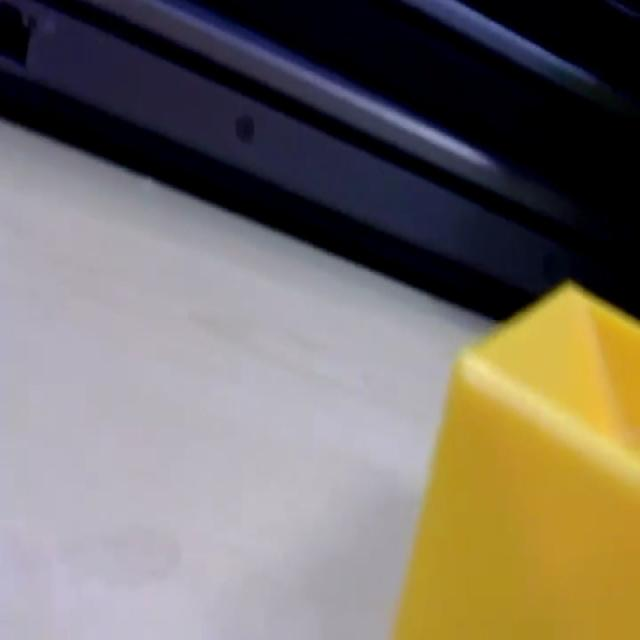yellow_block: (390, 277, 639, 636)
